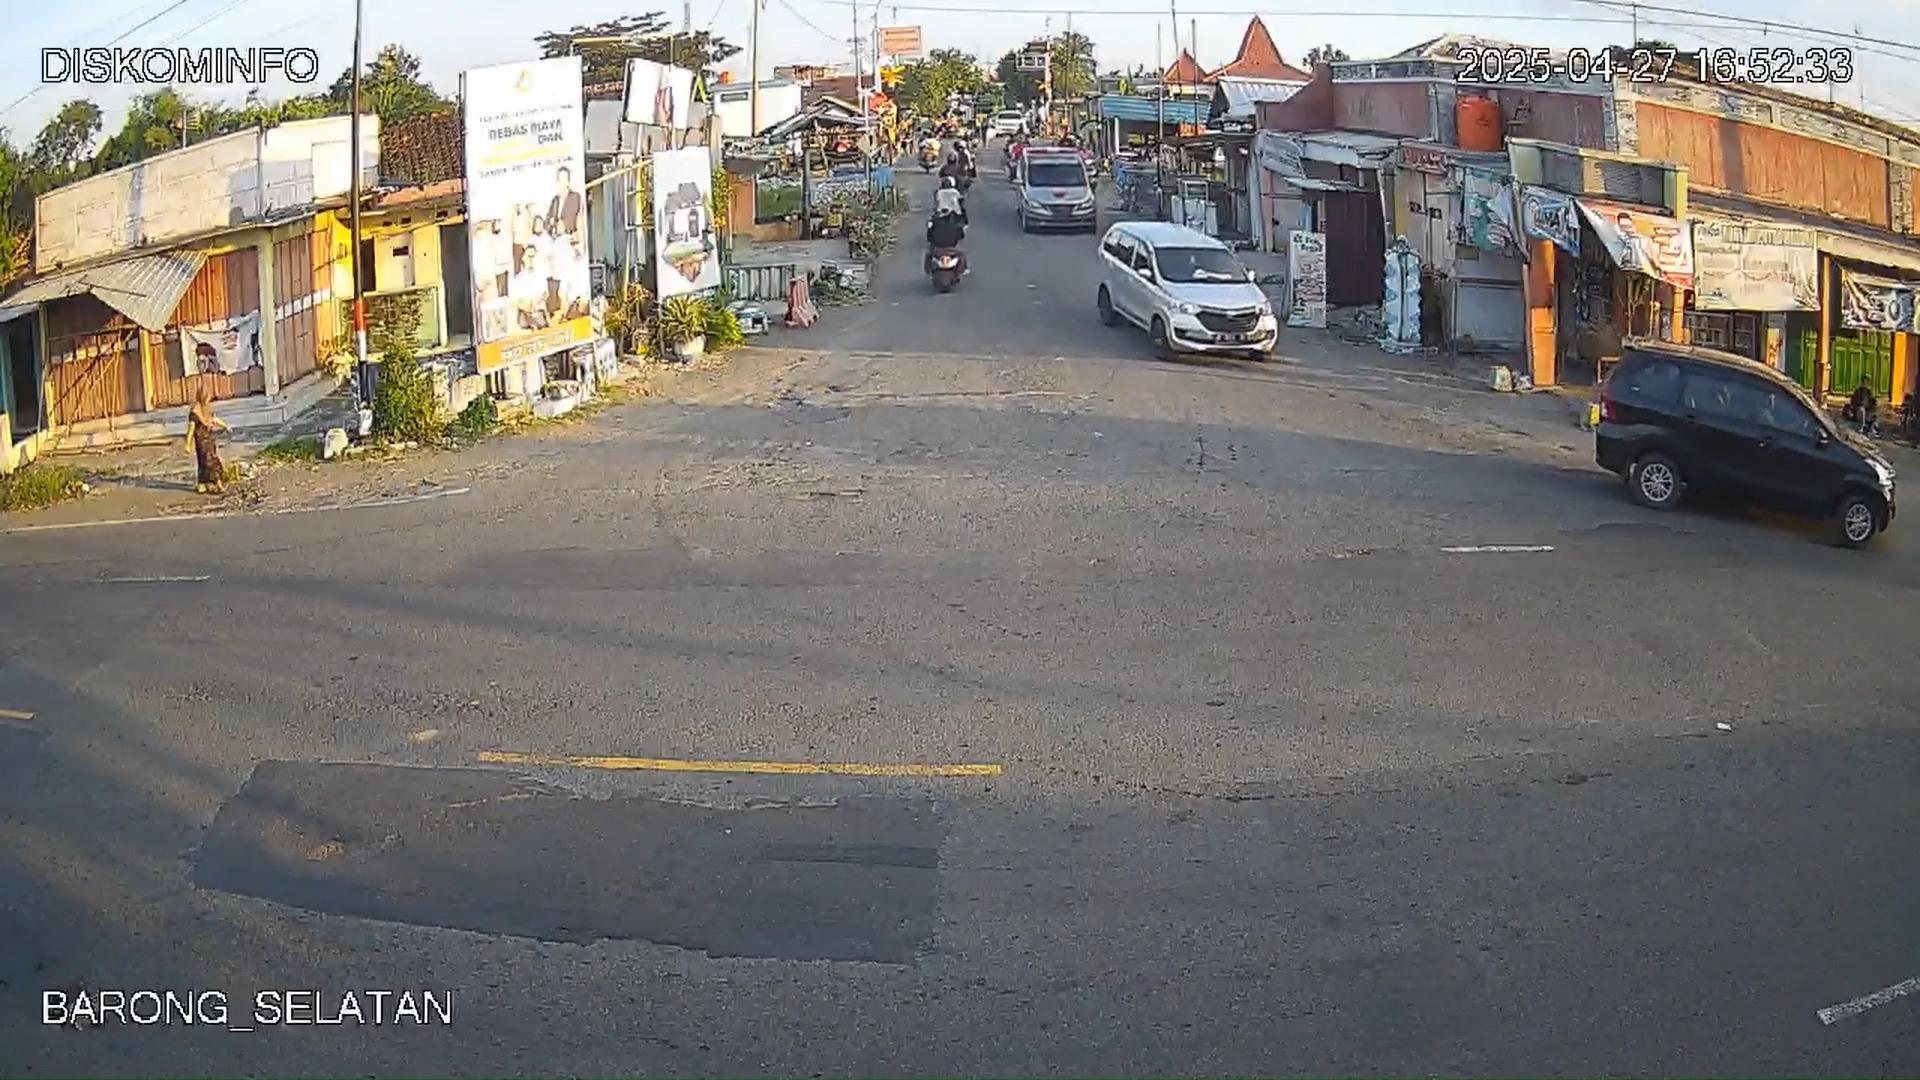mobil: (1589, 340, 1899, 543), (1096, 219, 1273, 359)
